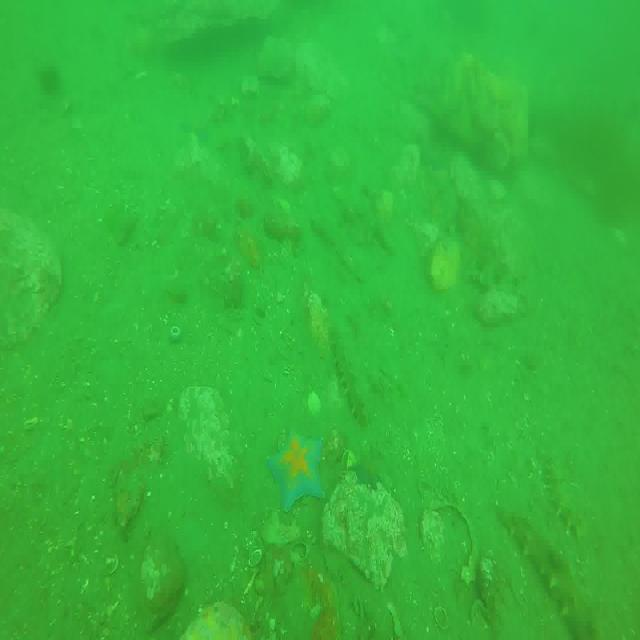echinus: (38, 62, 59, 100)
holothurian: (502, 511, 591, 640), (327, 316, 372, 424), (545, 449, 588, 536)
starfish: (268, 431, 326, 510), (182, 108, 210, 152)
